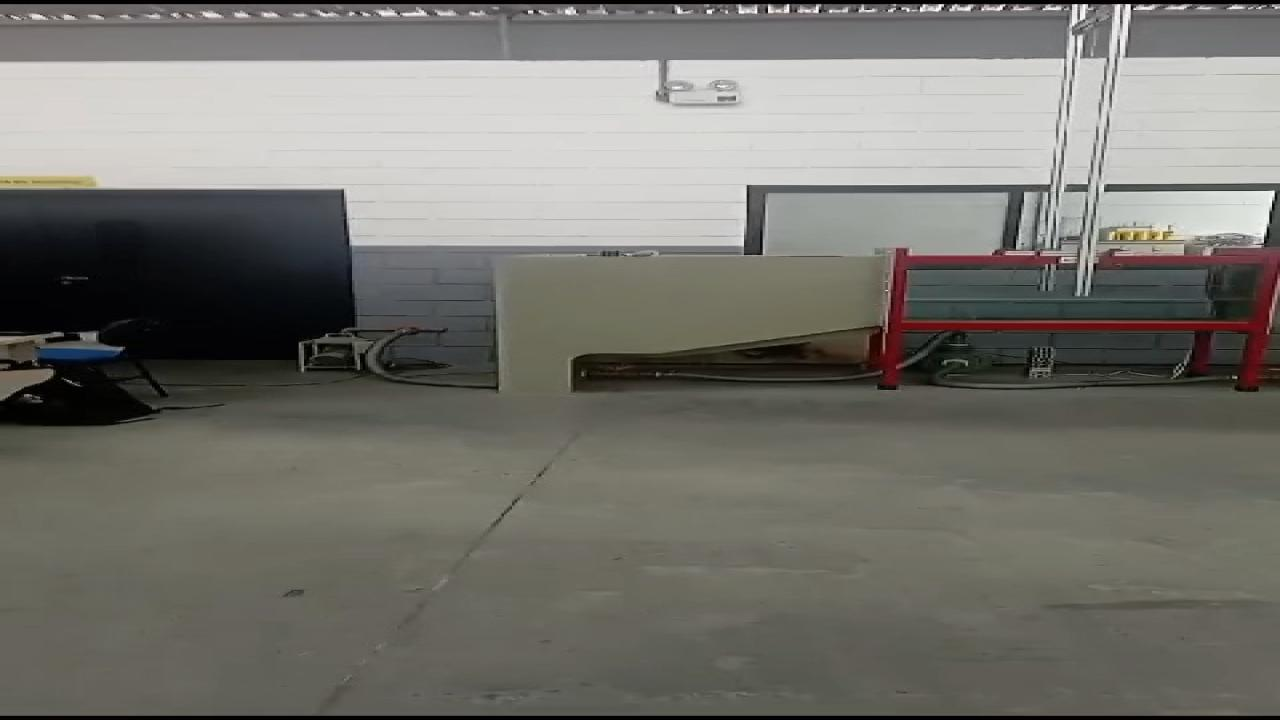Cube: (599, 251, 619, 256)
